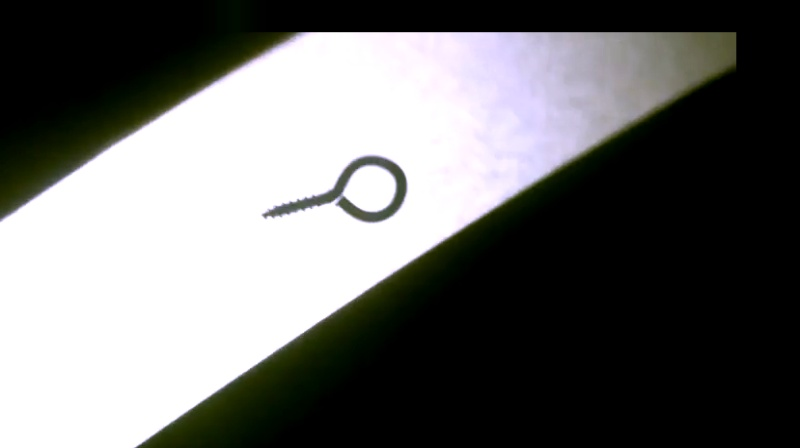O001: (256, 152, 409, 226)
